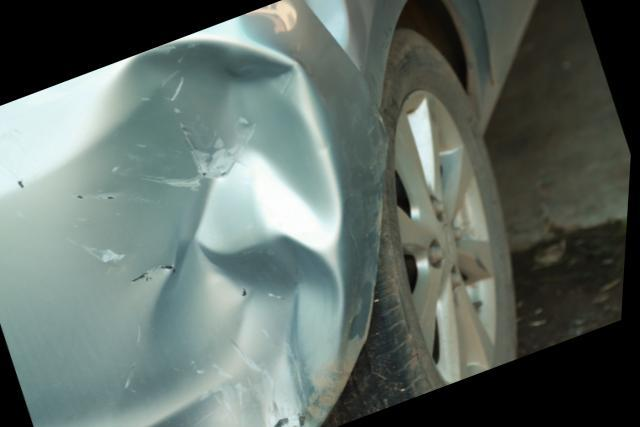dent: (75, 39, 346, 427)
